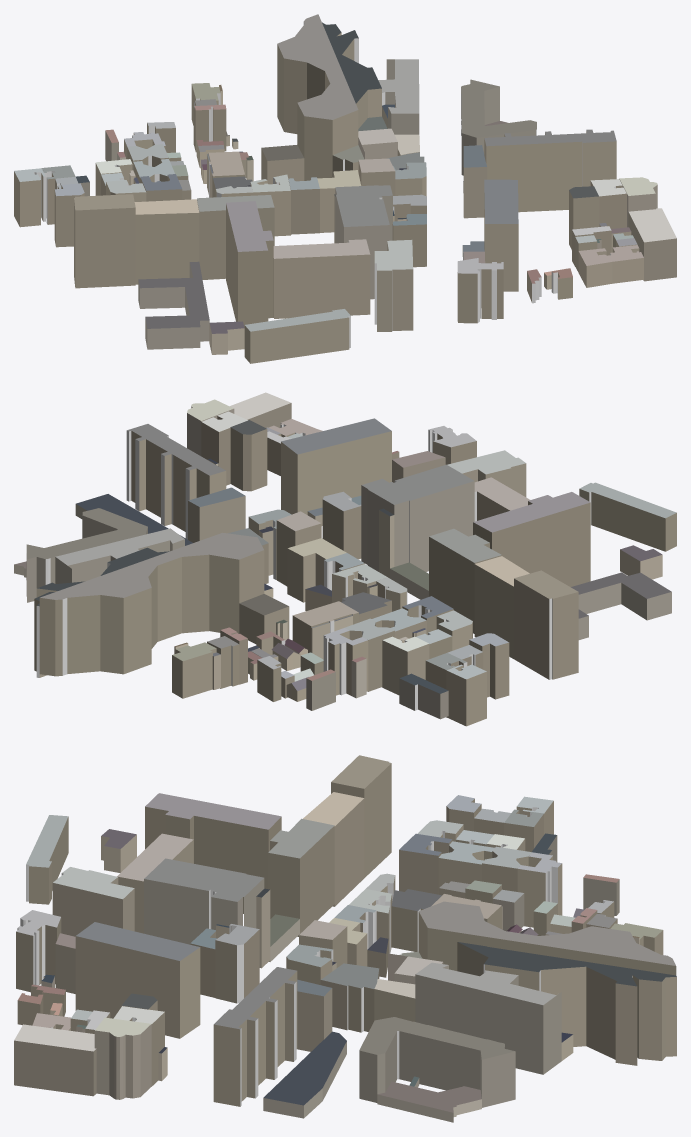
3 renders of one model, top to bottom at view 1: azimuth 30°, elevation 25°; view 2: azimuth 150°, elevation 25°; view 3: azimuth 270°, elevation 25°, orthographic. The views are drawn at different scales.
Parts seen in each view (by area): view 1: tuile; view 2: tuile; view 3: tuile.
Boxes of the visible parts, left/top/right/bottom form: tuile: left=14, top=14, right=676, bottom=363; tuile: left=14, top=392, right=676, bottom=726; tuile: left=14, top=755, right=676, bottom=1122.
Bounding box in the file's own units: 280 × 42.36 × 271.
